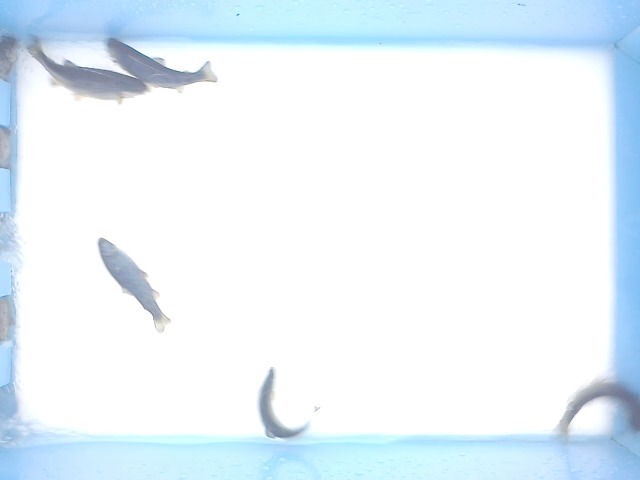fish: (23, 33, 153, 106), (96, 235, 173, 337), (102, 34, 220, 95), (256, 364, 321, 443)
